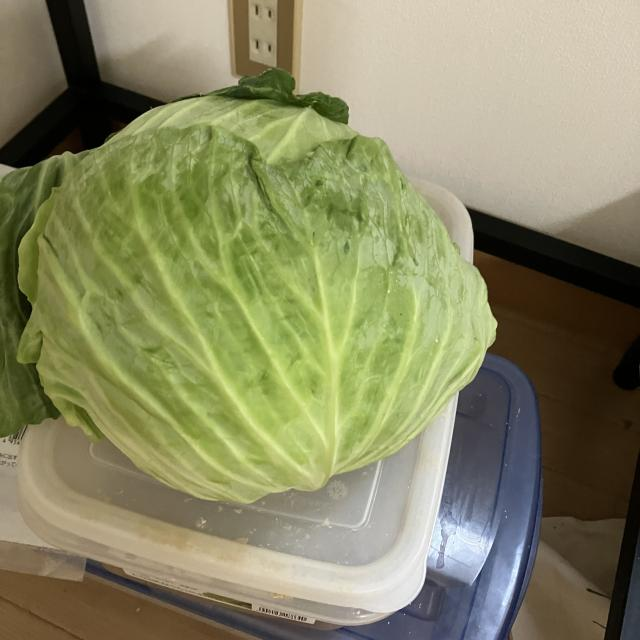cabbage: (0, 65, 502, 512)
